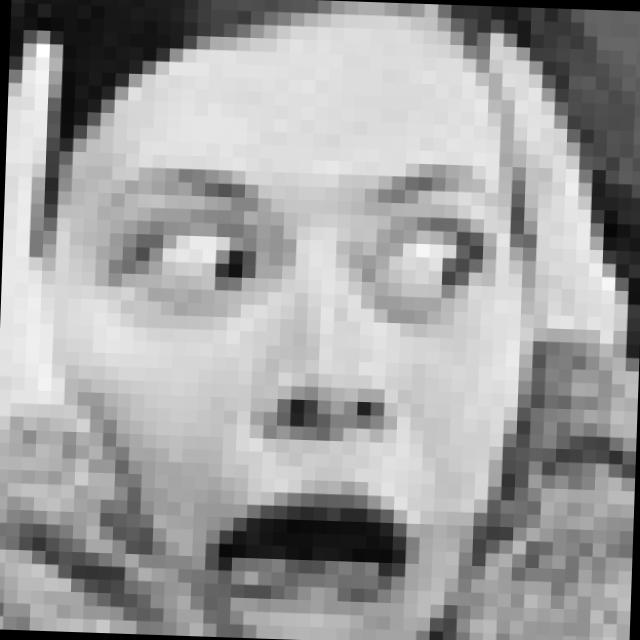fear: (86, 153, 503, 618)
